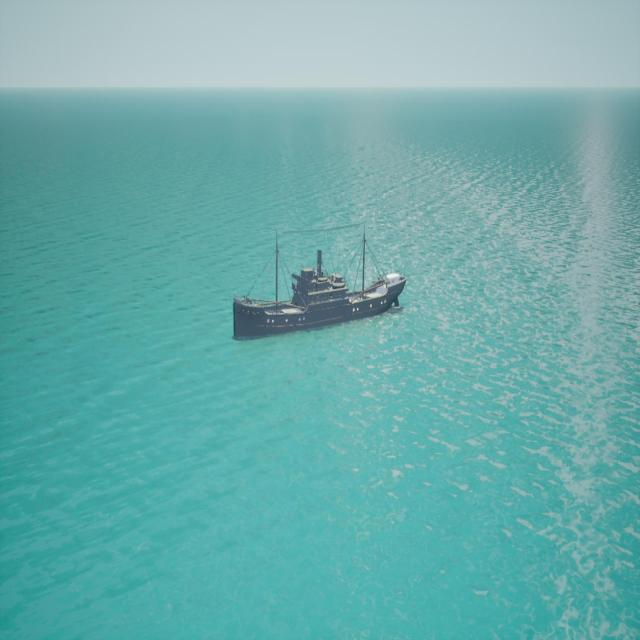fishing ship: (232, 231, 407, 343)
